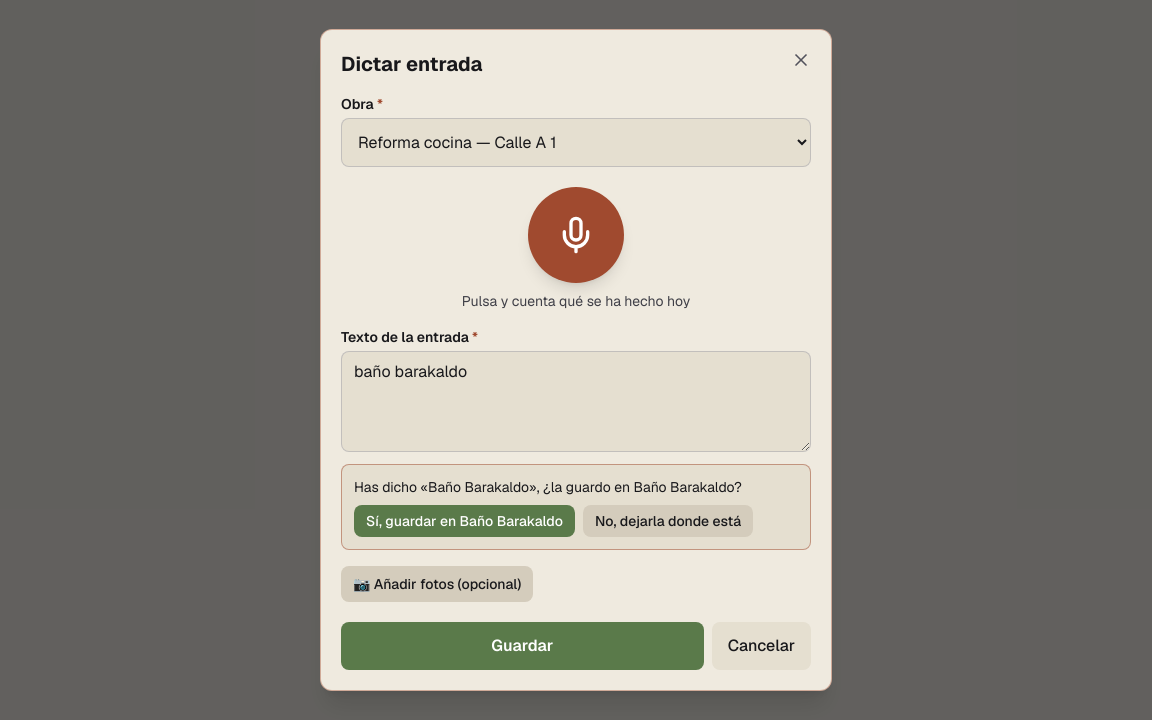
DictarEntradaModal › «Sí» cambia la obra y el aviso desaparece; «No» solo lo oculta
Click the button "Sí, guardar en Baño Barakaldo" at (464, 521), box [354,505,575,537]
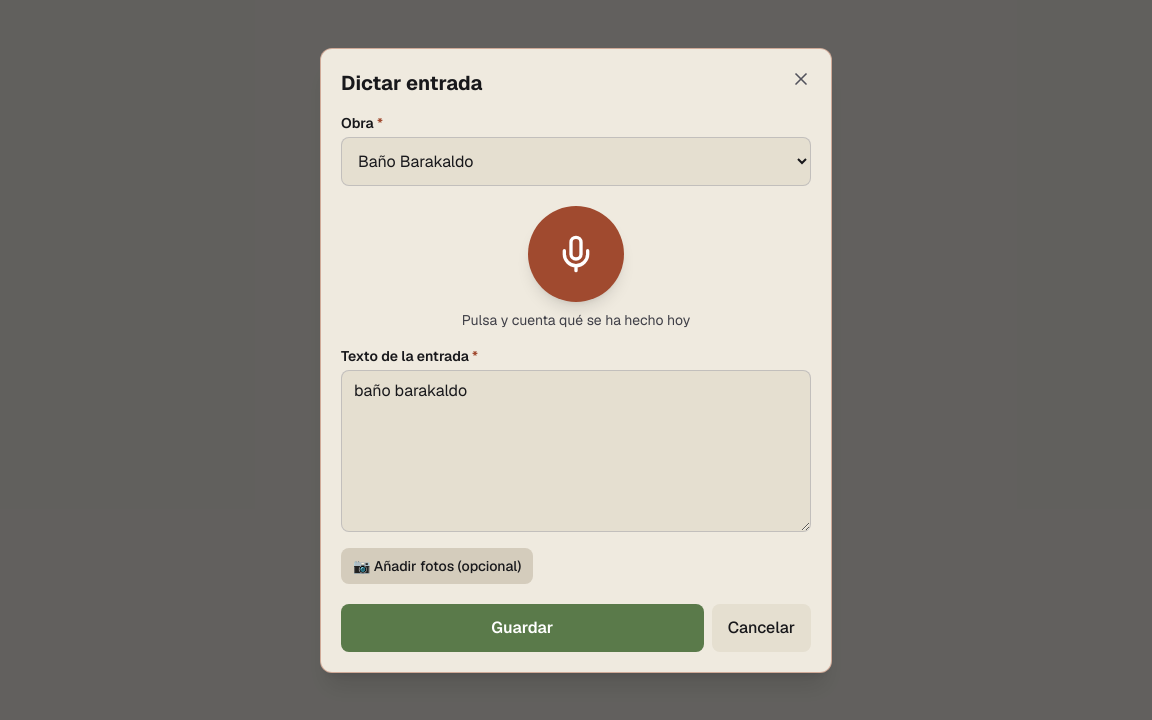
Check: the dropdown labelled "Obra *" shows "Baño Barakaldo", box [341,136,811,186]
